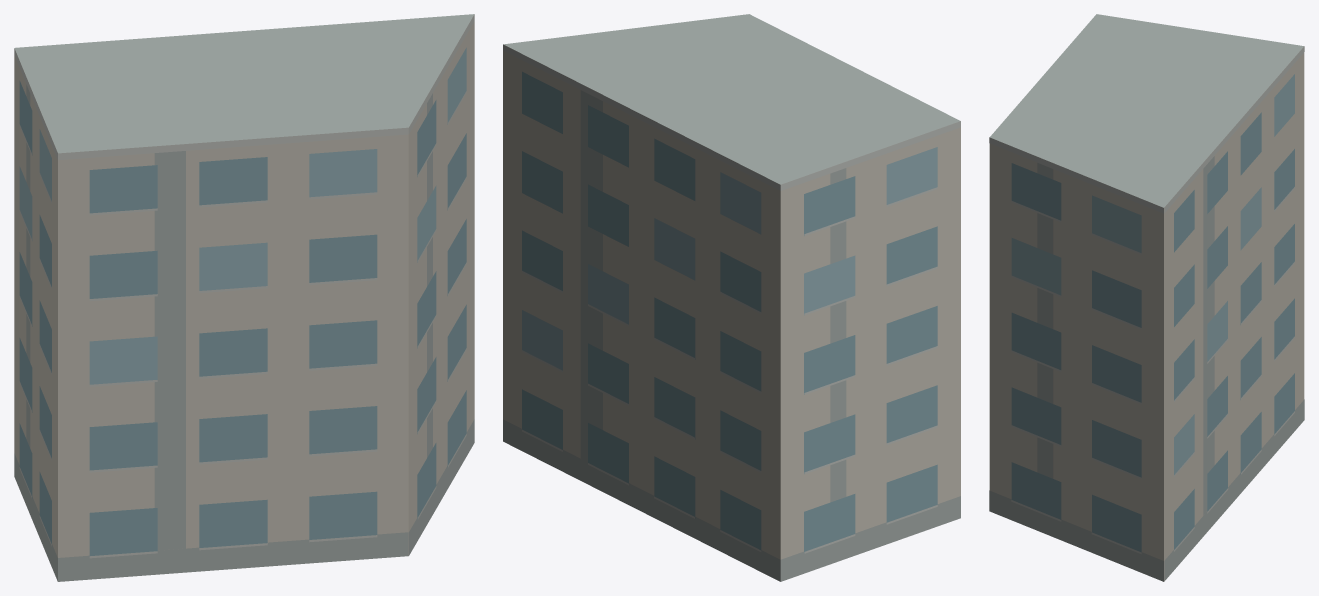
The model's file is residential-cfdf95b9-16dd-455d-8965-877331e4581e.glb.
3 views of the same model, side by side, from view 1: azimuth 30°, elevation 25°; view 2: azimuth 150°, elevation 25°; view 3: azimuth 270°, elevation 25° (orthographic). The views are drawn at different scales.
Parts seen in each view (by area): view 1: residential-cfdf95b9-16dd-455d-8965-877331e4581e.tmp; view 2: residential-cfdf95b9-16dd-455d-8965-877331e4581e.tmp; view 3: residential-cfdf95b9-16dd-455d-8965-877331e4581e.tmp.
Boxes of the visible parts, x1,y1,x2,y2 form: residential-cfdf95b9-16dd-455d-8965-877331e4581e.tmp: (14,14,474,581); residential-cfdf95b9-16dd-455d-8965-877331e4581e.tmp: (503,14,960,581); residential-cfdf95b9-16dd-455d-8965-877331e4581e.tmp: (989,14,1304,581).
Bounding box in the file's own units: 16.97 × 15.25 × 11.64.
